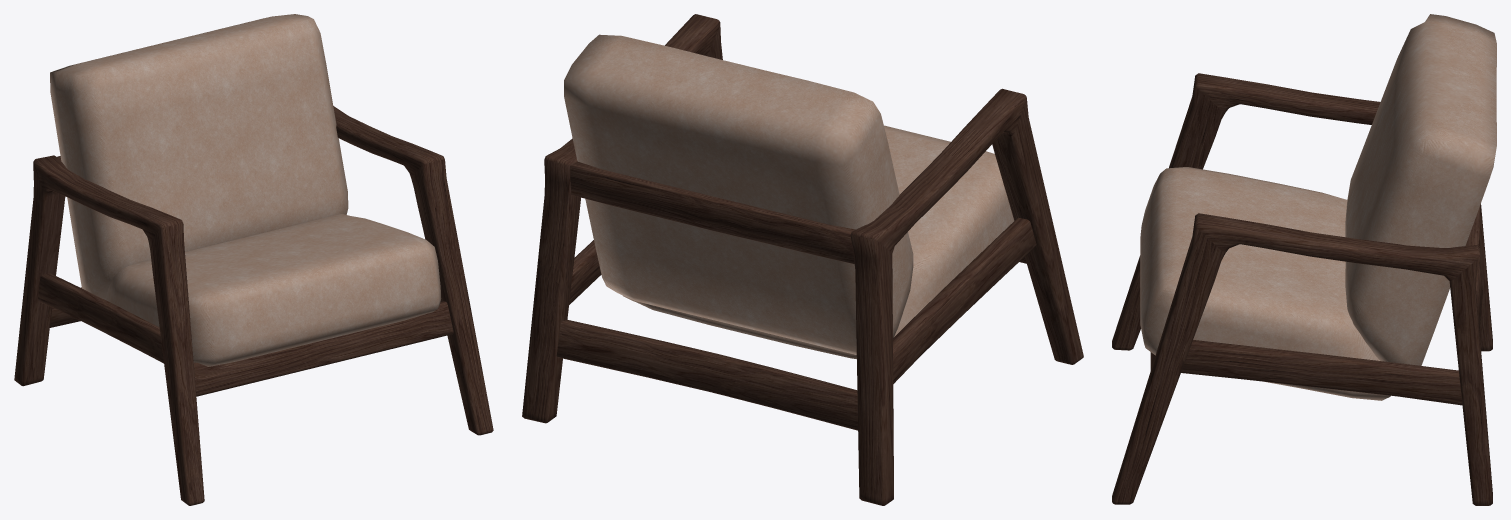
File: sofa_lowpoly.glb
3 views of the same model, side by side, from view 1: azimuth 30°, elevation 25°; view 2: azimuth 150°, elevation 25°; view 3: azimuth 270°, elevation 25° (orthographic). The views are drawn at different scales.
Visible parts, largest first — view 1: Sofa; view 2: Sofa; view 3: Sofa.
Part boxes in pixels (x1=…): Sofa: x1=14, y1=14, x2=493, y2=505; Sofa: x1=522, y1=14, x2=1083, y2=505; Sofa: x1=1112, y1=14, x2=1496, y2=505.
Size of the model in its own units: 0.8404 by 0.8233 by 0.8203.
2 materials, 2 textured.
